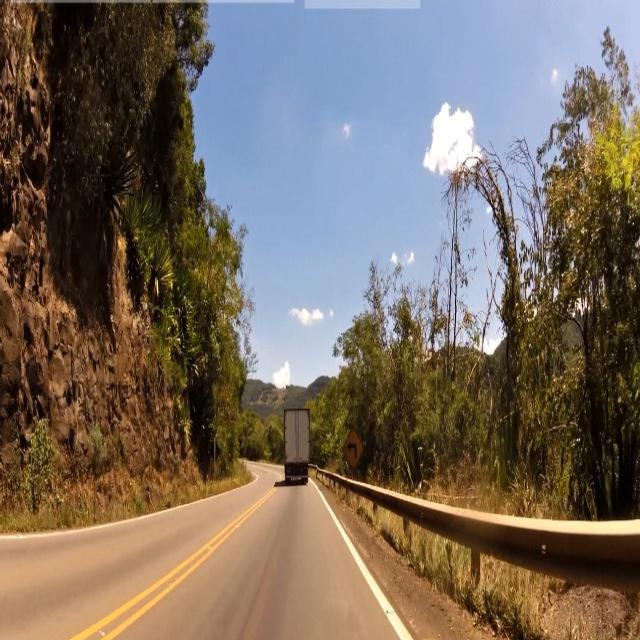A-1a: (342, 427, 363, 468)
